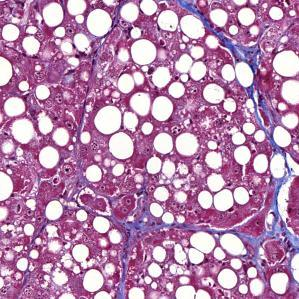fibrosis: (116, 218, 202, 248), (247, 78, 284, 144), (244, 222, 296, 266)
